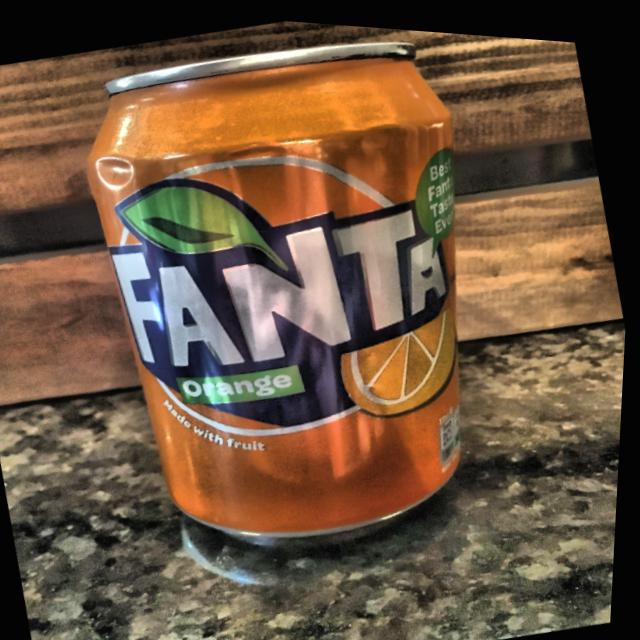Cans: (33, 3, 537, 596)
